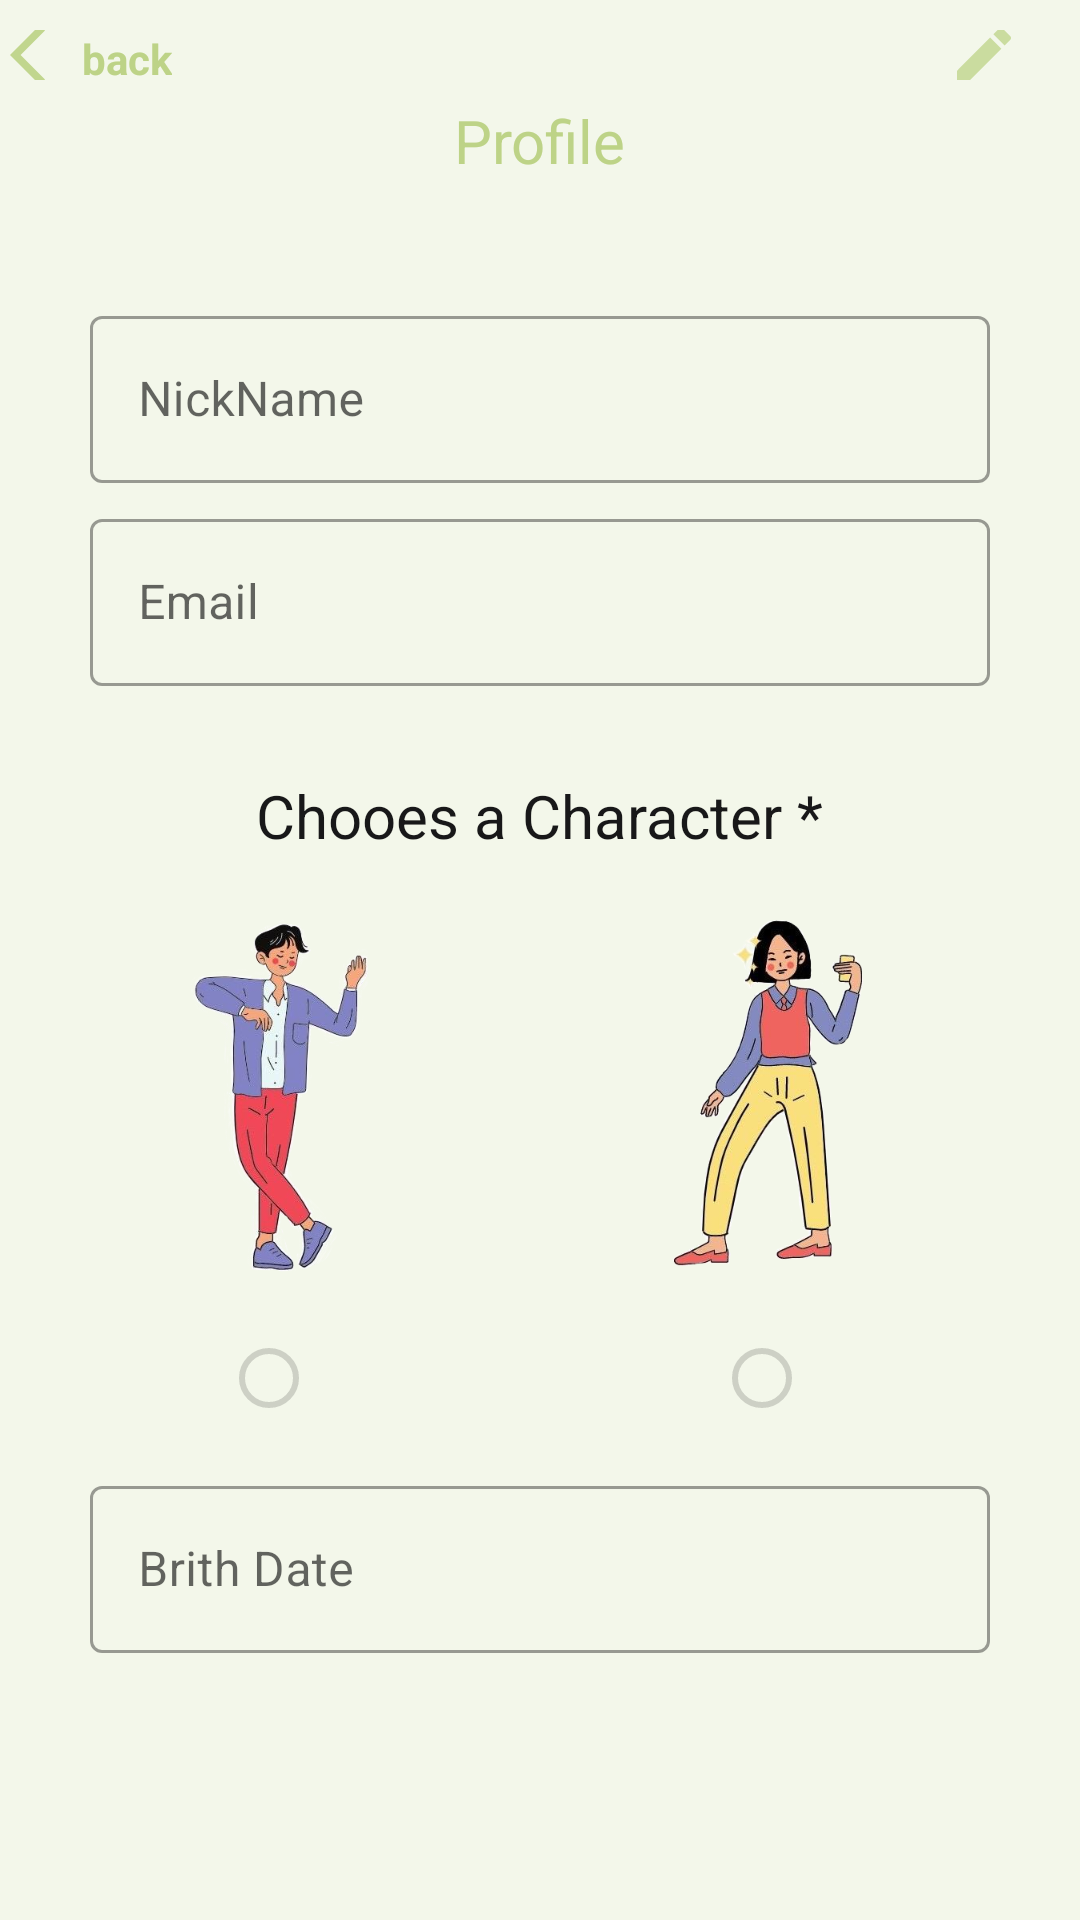

Point at icon controls on the screen. Image size 1080*1920, points as (x=x, y=y).
female: (x=768, y=1093)
male: (x=280, y=1097)
